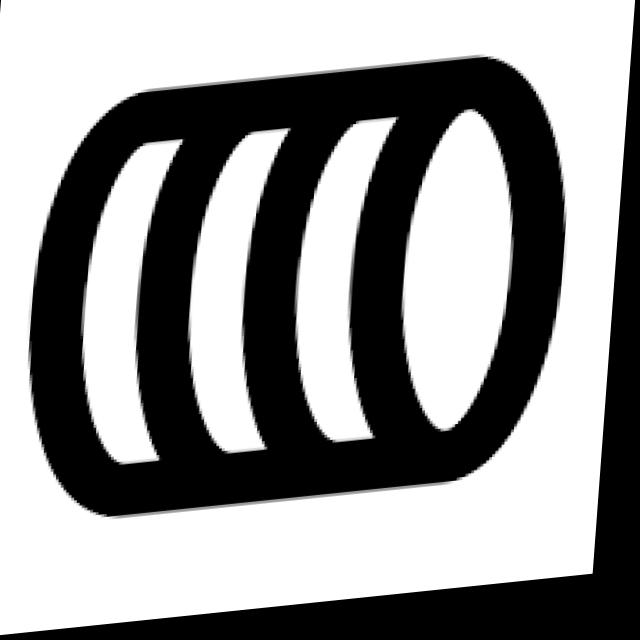Database: (0, 8, 616, 597)
